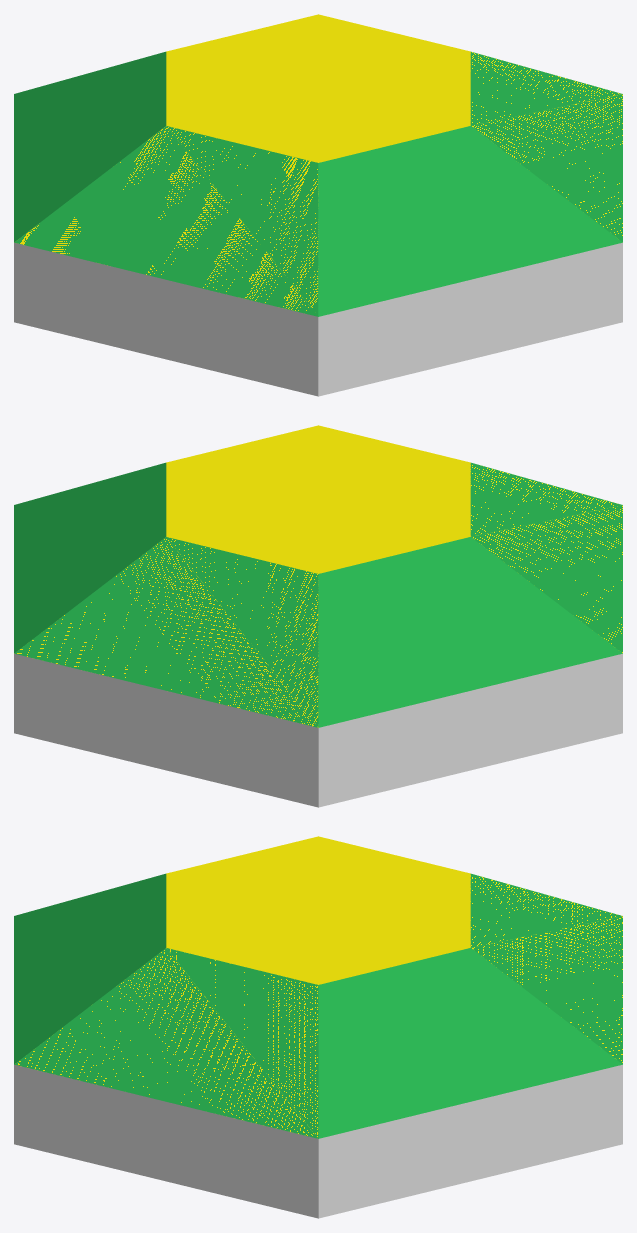
File: tile-declive-final.obj
3 renders of one model, top to bottom at view 1: azimuth 30°, elevation 25°; view 2: azimuth 150°, elevation 25°; view 3: azimuth 270°, elevation 25°, orthographic.
Visible parts, largest first — view 1: tile_declive; view 2: tile_declive; view 3: tile_declive.
Part boxes in pixels (x1,y1,x2,y2): tile_declive: (14,14,622,396); tile_declive: (14,425,622,807); tile_declive: (14,836,622,1218).
Size of the model in its own units: 2 by 0.5 by 1.73.
Materials: 1 (1 with a texture image).
